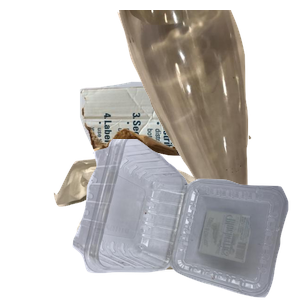cardboard: (77, 79, 251, 227)
glass: (115, 10, 300, 190)
plastic: (70, 139, 300, 300)
trash: (51, 155, 261, 300)
